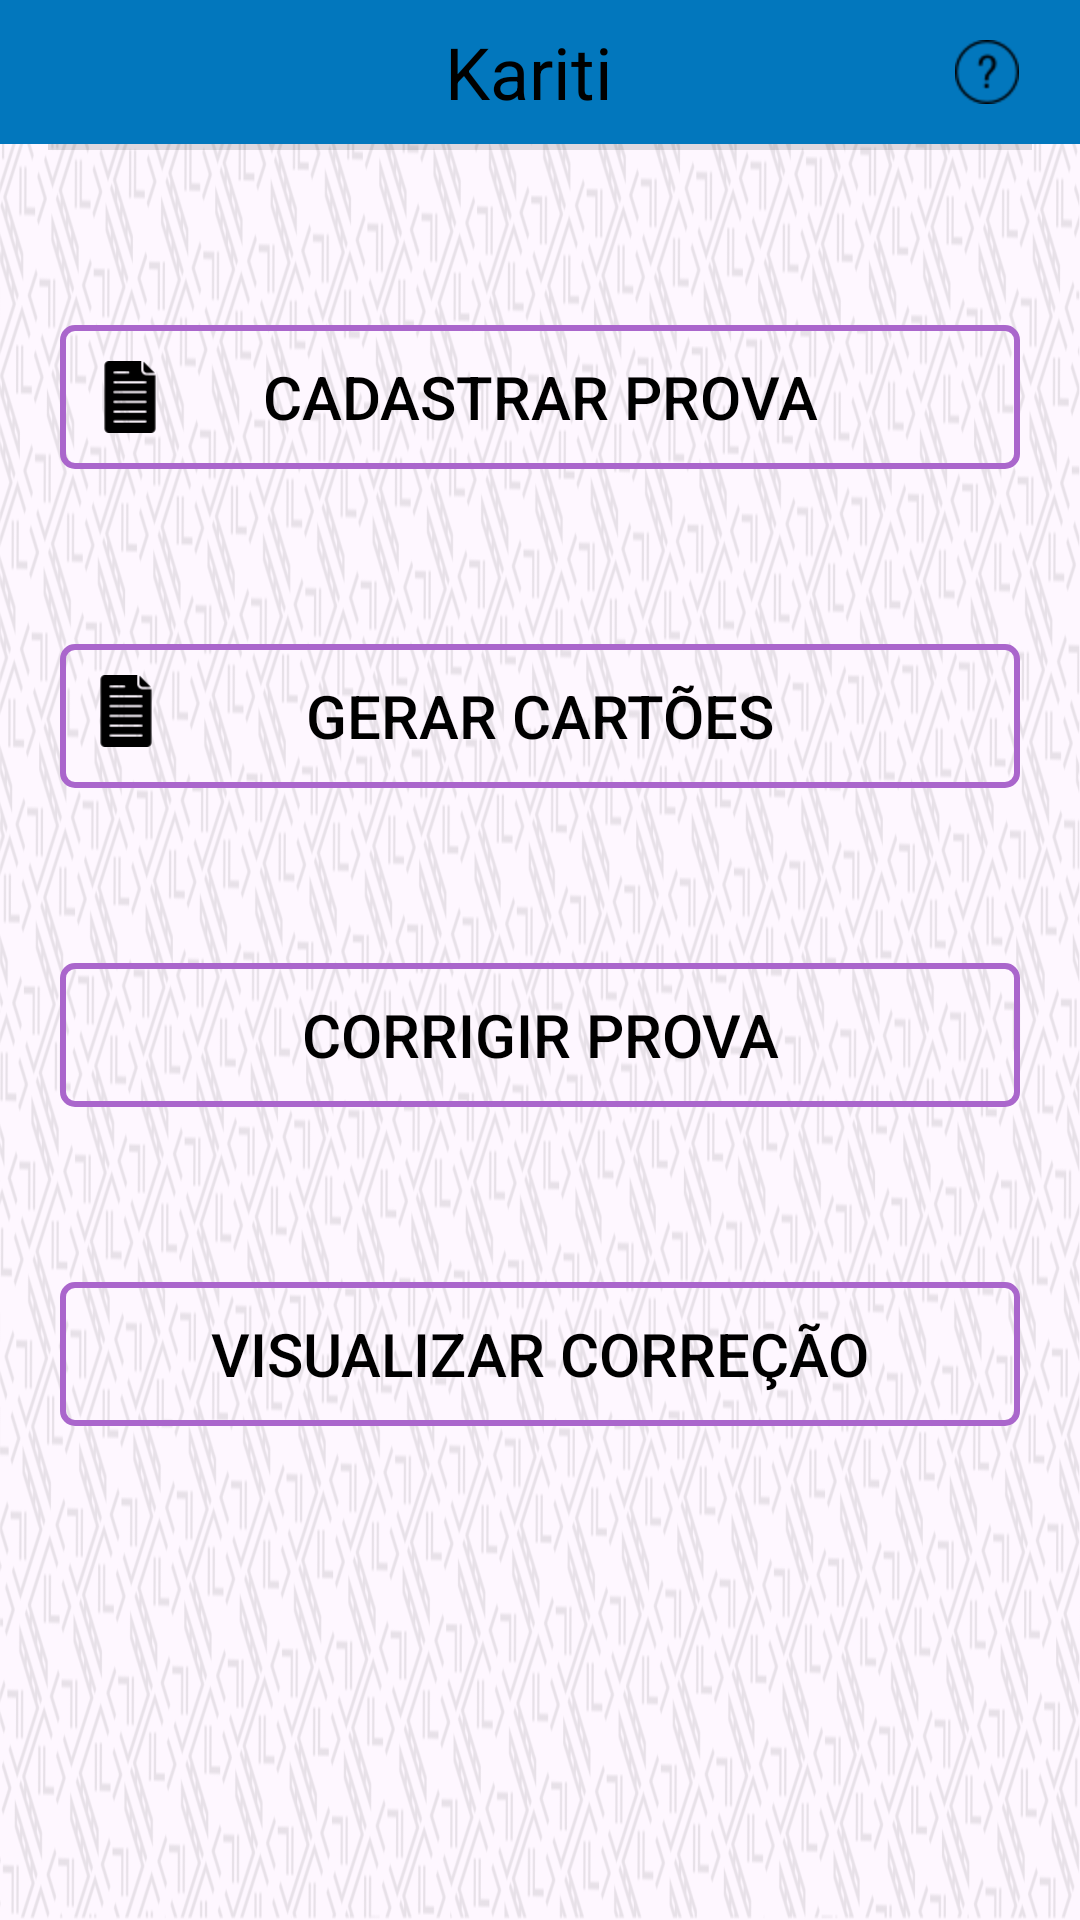

Named icons in this screenshot (1080×1920) and their centers, (x=x, y=y):
Ajuda: (x=987, y=72)
Icone de Prova: (x=130, y=397), (x=126, y=711)
